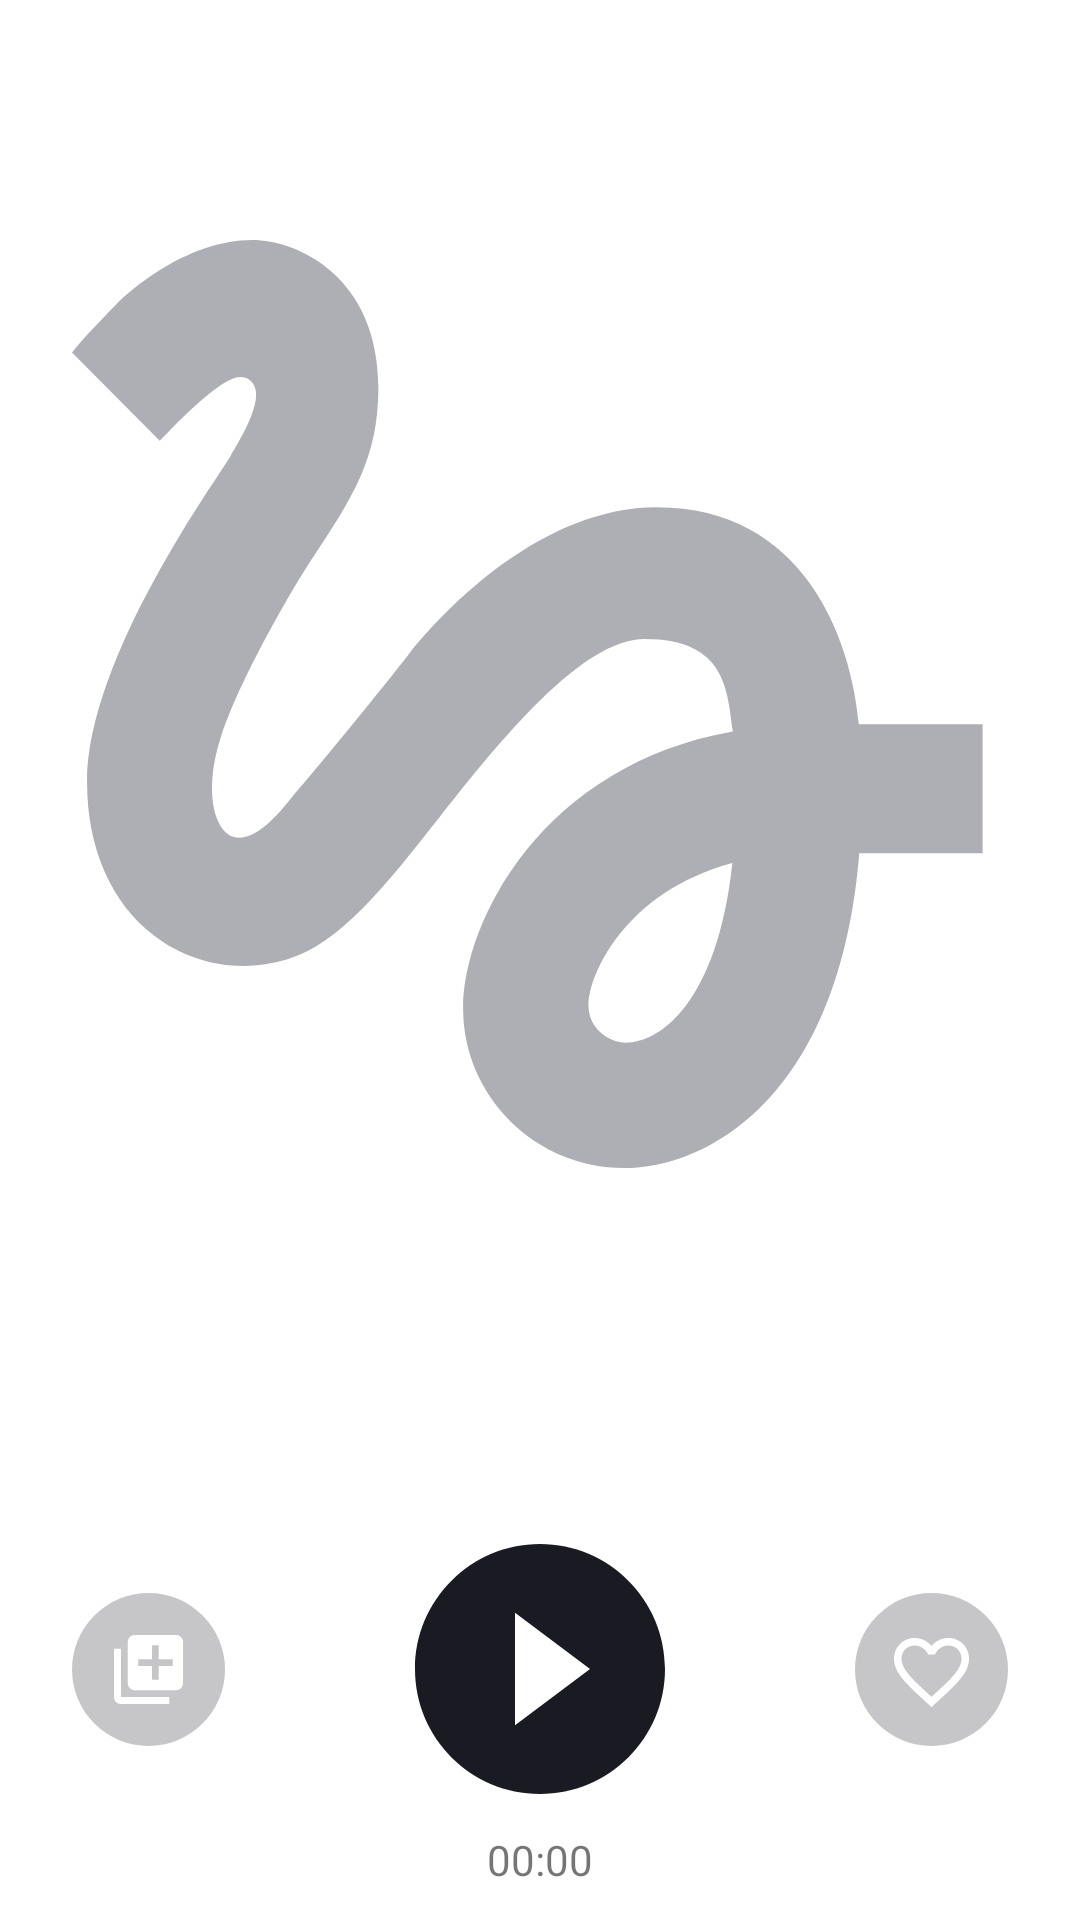

Screen size 1080px x 1920px. Icon name, then its box in pixels as bbox=[x1, y1, x2, y2]:
add to playlist: bbox=[72, 1593, 225, 1746]
favorite: bbox=[855, 1593, 1008, 1746]
play: bbox=[415, 1544, 665, 1794]
